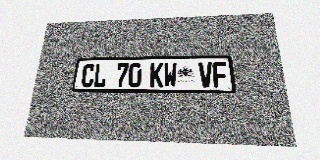0: (128, 63, 142, 87)
7: (115, 64, 129, 87)
C: (81, 64, 95, 87)
F: (212, 62, 228, 87)
K: (150, 63, 163, 87)
L: (93, 64, 107, 87)
V: (198, 62, 213, 87)
W: (164, 63, 177, 87)
